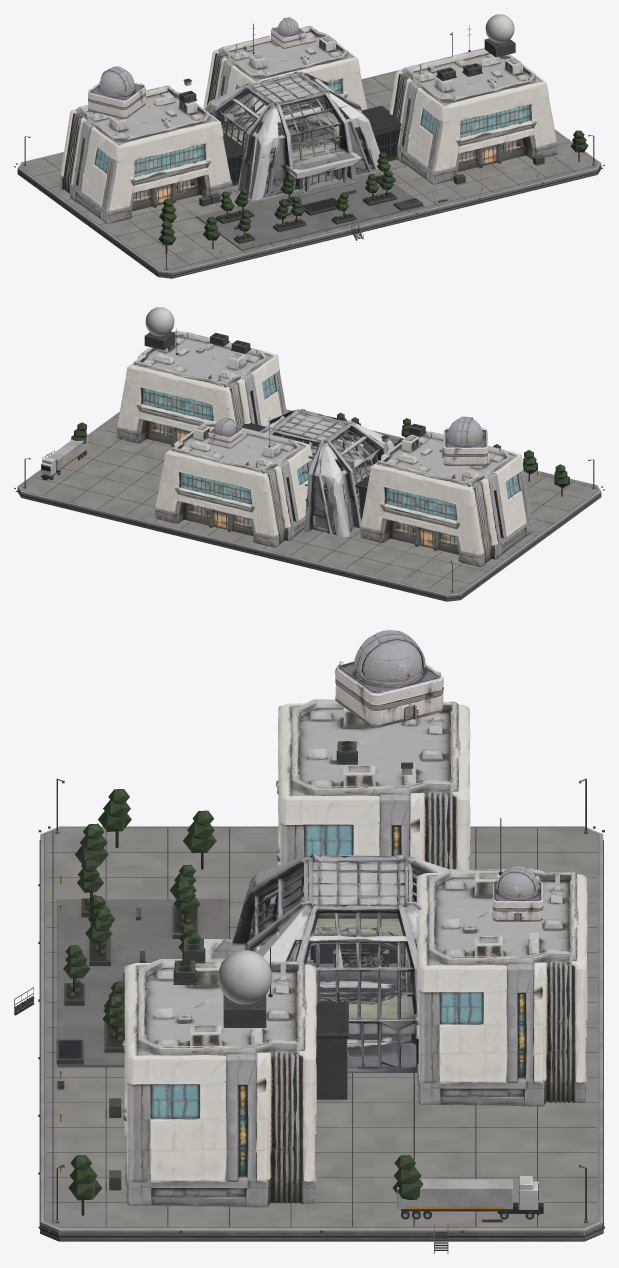
File: university.lite.glb
3 views of the same model, one above another, from view 1: azimuth 30°, elevation 25°; view 2: azimuth 150°, elevation 25°; view 3: azimuth 270°, elevation 25° (orthographic). The views are drawn at different scales.
Parts seen in each view (by area): view 1: parts_colony-facetedWing, hull, parts_colony-atriumHall, parts_colony-obsDome; view 2: parts_colony-facetedWing, hull, parts_colony-atriumHall, parts_colony-obsDome, parts_yard-truck; view 3: hull, parts_colony-facetedWing, parts_colony-atriumHall, parts_colony-obsDome, parts_yard-truck.
Part boxes in pixels (x1,y1,x2,y2): parts_colony-facetedWing: (59,25,557,223); hull: (14,14,604,278); parts_colony-atriumHall: (205,71,379,200); parts_colony-obsDome: (88,17,305,118); parts_colony-facetedWing: (116,330,532,566); hull: (14,307,604,601); parts_colony-atriumHall: (259,408,393,537); parts_colony-obsDome: (208,416,487,465); parts_yard-truck: (40,437,88,480); hull: (14,741,604,1253); parts_colony-facetedWing: (122,699,587,1207); parts_colony-atriumHall: (204,854,448,1072); parts_colony-obsDome: (335,630,543,921); parts_yard-truck: (397,1176,543,1219).
Bounding box in the file's own units: 115 × 32.17 × 69.29.
5 materials, 5 textured.
